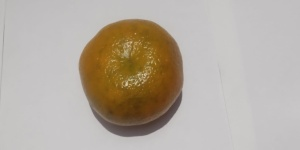BAD: (77, 16, 183, 127)
